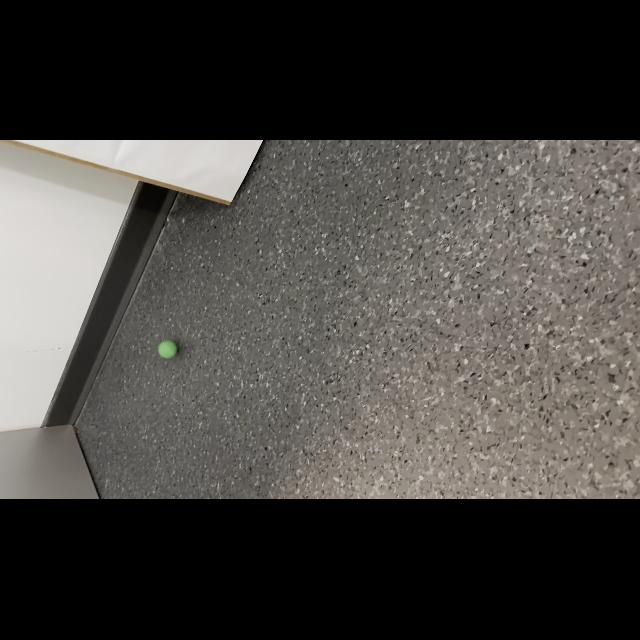objects: (156, 338, 178, 360)
